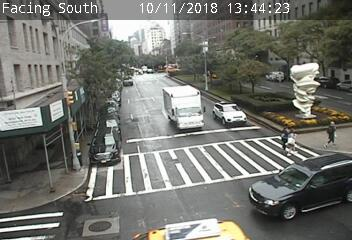car: (164, 87, 203, 131), (91, 127, 121, 165), (213, 102, 246, 128)
